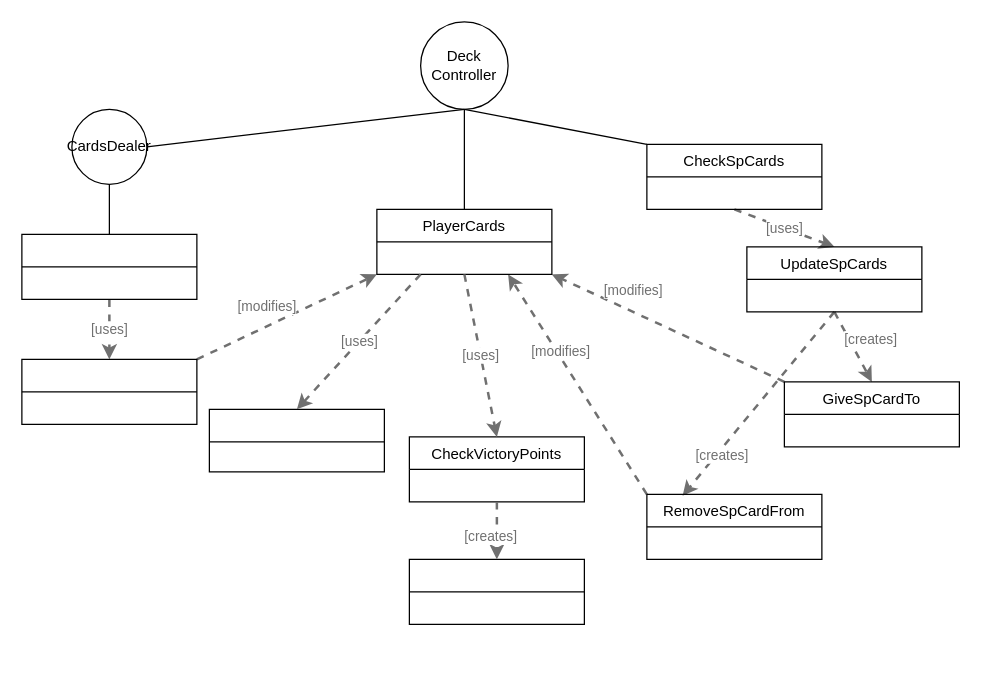
The diagram is 981 pixels wide and 679 high, and some of its shapes have lost their labels. The shapes that lost their labels are listed below. From the top down, each one's centre as x and y in pixels, then its label:
At pixel 109 266: "Resources".
At pixel 109 391: "GiveCardTo".
At pixel 296 440: "PlayCard".
At pixel 496 591: "RaiseScore".
